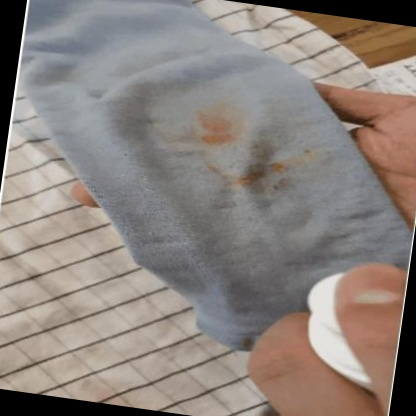kimchi: (195, 102, 239, 157), (265, 140, 319, 177), (240, 159, 273, 189), (269, 173, 295, 199), (200, 157, 225, 179)
